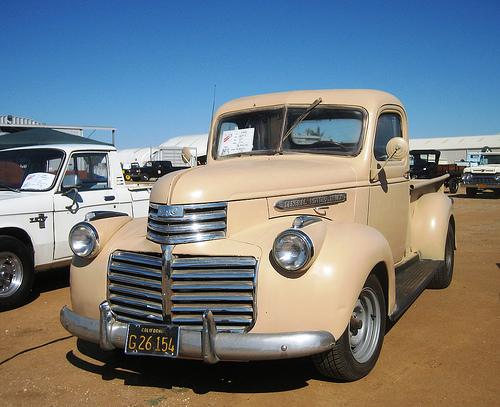truck: (59, 87, 457, 383)
